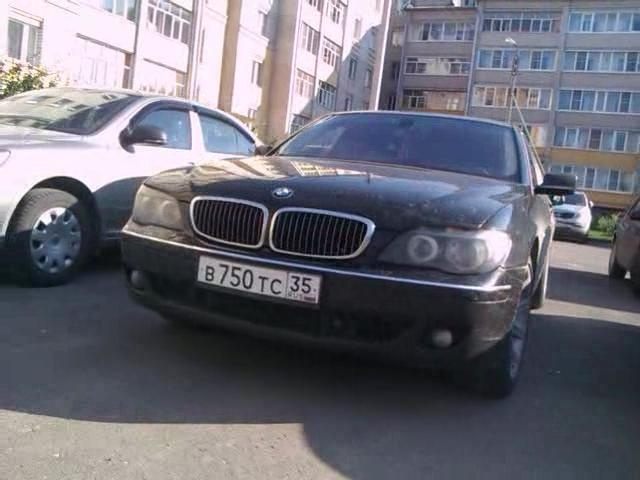car license plate: (195, 253, 322, 309)
